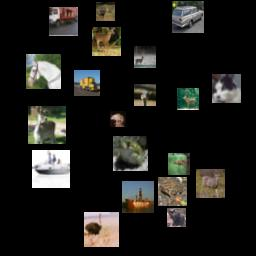automobile: (172, 1, 204, 33)
bird: (84, 212, 119, 247), (134, 84, 156, 106)
cat: (212, 74, 241, 103), (167, 208, 186, 227)
deer: (28, 106, 66, 144), (196, 169, 225, 198), (92, 27, 121, 56), (177, 88, 199, 110), (168, 153, 190, 175), (134, 46, 156, 68), (96, 2, 115, 21)
frog: (113, 136, 148, 171), (158, 177, 187, 206), (110, 111, 126, 127)
ship: (32, 150, 70, 188), (122, 181, 154, 213)
truck: (49, 7, 78, 36), (74, 70, 100, 96)
